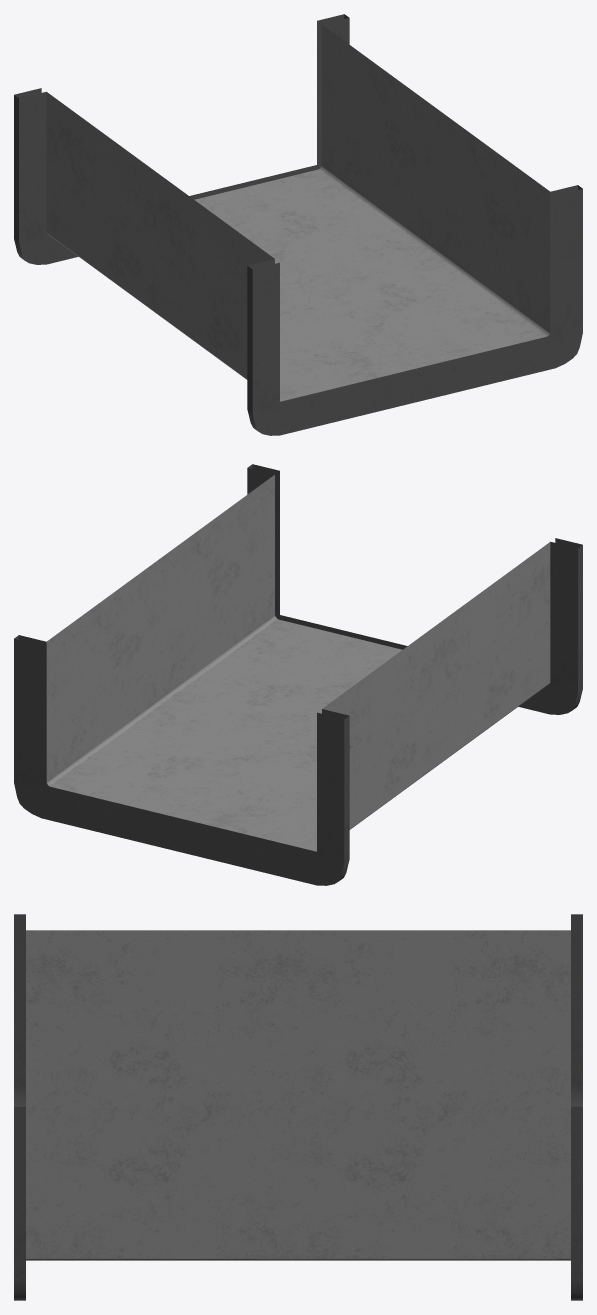
File: AirductStraight_geo.fbx
The picture shows the model from 3 angles, top to bottom: view 1: azimuth 30°, elevation 25°; view 2: azimuth 150°, elevation 25°; view 3: azimuth 270°, elevation 25°; orthographic projection. The views are drawn at different scales.
Visible parts, largest first — view 1: Airduct_Straight; view 2: Airduct_Straight; view 3: Airduct_Straight.
Boxes of the visible parts, x1,y1,x2,y2 form: Airduct_Straight: (14,14,582,435); Airduct_Straight: (14,464,582,885); Airduct_Straight: (14,914,582,1300).
Bounding box in the file's own units: 240 × 120 × 300.
1 material, 1 textured.
